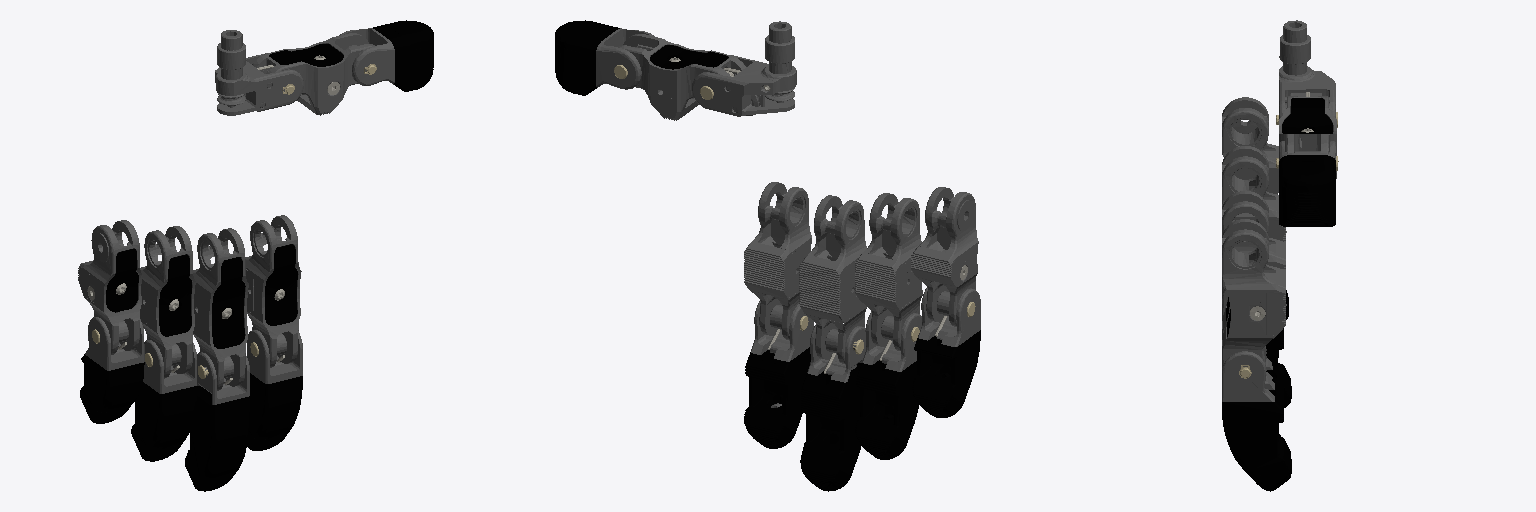
--- Render facts (derived) ---
Views: 3 orthographic renders of the robot side by side, from view 1: azimuth 30°, elevation 25°; view 2: azimuth 150°, elevation 25°; view 3: azimuth 270°, elevation 25°.
Robot: ur5e_robot — 23 links, 22 joints (17 revolute, 5 fixed); root link base_link; default pose: all joints at 0.
Visible links, largest first — view 1: mf_proximal, rf_proximal, if_proximal, mf_distal, lf_proximal, rf_distal, if_distal, lf_distal, th_inter, th_proximal, th_distal; view 2: mf_proximal, mf_distal, rf_proximal, if_proximal, if_distal, rf_distal, lf_proximal, lf_distal, th_proximal, th_inter, th_distal; view 3: if_distal, if_proximal, th_distal, th_proximal, th_inter, lf_proximal, rf_proximal, mf_proximal, rf_distal.
Link boxes in pixels (left/top/right/bottom): mf_proximal: left=193, top=228, right=248, bottom=390; rf_proximal: left=140, top=226, right=195, bottom=378; if_proximal: left=245, top=215, right=301, bottom=367; mf_distal: left=185, top=352, right=249, bottom=491; lf_proximal: left=78, top=220, right=142, bottom=354; rf_distal: left=131, top=340, right=196, bottom=461; if_distal: left=247, top=330, right=302, bottom=450; lf_distal: left=80, top=317, right=144, bottom=423; th_inter: left=252, top=33, right=376, bottom=115; th_proximal: left=215, top=30, right=303, bottom=115; th_distal: left=339, top=20, right=433, bottom=91; mf_proximal: left=799, top=195, right=866, bottom=364; mf_distal: left=800, top=325, right=865, bottom=491; rf_proximal: left=855, top=193, right=922, bottom=350; if_proximal: left=744, top=182, right=811, bottom=340; if_distal: left=744, top=301, right=813, bottom=448; rf_distal: left=855, top=311, right=921, bottom=459; lf_proximal: left=911, top=187, right=978, bottom=336; lf_distal: left=912, top=288, right=980, bottom=417; th_proximal: left=692, top=21, right=796, bottom=116; th_inter: left=614, top=34, right=745, bottom=120; th_distal: left=555, top=20, right=654, bottom=95; if_distal: left=1222, top=348, right=1291, bottom=489; if_proximal: left=1222, top=219, right=1286, bottom=367; th_distal: left=1279, top=141, right=1335, bottom=226; th_proximal: left=1276, top=20, right=1337, bottom=127; th_inter: left=1276, top=96, right=1338, bottom=178; lf_proximal: left=1222, top=97, right=1278, bottom=206; rf_proximal: left=1222, top=146, right=1286, bottom=293; mf_proximal: left=1222, top=191, right=1285, bottom=350; rf_distal: left=1222, top=288, right=1291, bottom=407.
Size in the robot's own frame: 0.1735 by 0.0442 by 0.2008 metres.
11 mesh visuals loaded from 19 distinct referenced files (11 Collada DAE); not drawn: 8 (reference not matched to a file when rendering).

URDF robot description (ur5e_robot):
<?xml version="1.0" encoding="utf-8"?>
<!-- =================================================================================== -->
<!-- |    This document was autogenerated by xacro from ur5e.xacro                     | -->
<!-- |    EDITING THIS FILE BY HAND IS NOT RECOMMENDED                                 | -->
<!-- =================================================================================== -->
<robot name="ur5e_robot">
  <!--
    Base UR robot series xacro macro.

    NOTE: this is NOT a URDF. It cannot directly be loaded by consumers
    expecting a flattened '.urdf' file. See the top-level '.xacro' for that
    (but note: that .xacro must still be processed by the xacro command).

    For use in '.launch' files: use one of the 'load_urX.launch' convenience
    launch files.

    This file models the base kinematic chain of a UR robot, which then gets
    parameterised by various configuration files to convert it into a UR3(e),
    UR5(e), UR10(e) or UR16e.

    NOTE: the default kinematic parameters (ie: link lengths, frame locations,
    offets, etc) do not correspond to any particular robot. They are defaults
    only. There WILL be non-zero offsets between the Forward Kinematics results
    in TF (ie: robot_state_publisher) and the values reported by the Teach
    Pendant.

    For accurate (and robot-specific) transforms, the 'kinematics_parameters_file'
    parameter MUST point to a .yaml file containing the appropriate values for
    the targetted robot.

    If using the UniversalRobots/Universal_Robots_ROS_Driver, follow the steps
    described in the readme of that repository to extract the kinematic
    calibration from the controller and generate the required .yaml file.

    Main author of the migration to yaml configs: Ludovic Delval.

    Contributors to previous versions (in no particular order):

     - Felix Messmer
     - Kelsey Hawkins
     - Wim Meeussen
     - Shaun Edwards
     - Nadia Hammoudeh Garcia
     - Dave Hershberger
     - G. vd. Hoorn
     - Philip Long
     - Dave Coleman
     - Miguel Prada
     - Mathias Luedtke
     - Marcel Schnirring
     - Felix von Drigalski
     - Felix Exner
     - Jimmy Da Silva
     - Ajit Krisshna N L
     - Muhammad Asif Rana
  -->
  <!--
    NOTE: the macro defined in this file is NOT part of the public API of this
          package. Users CANNOT rely on this file being available, or stored in
          this location. Nor can they rely on the existence of the macro.
  -->
  <transmission name="shoulder_pan_trans">
    <type>transmission_interface/SimpleTransmission</type>
    <joint name="shoulder_pan_joint">
      <hardwareInterface>hardware_interface/PositionJointInterface</hardwareInterface>
    </joint>
    <actuator name="shoulder_pan_motor">
      <mechanicalReduction>1</mechanicalReduction>
    </actuator>
  </transmission>
  <transmission name="shoulder_lift_trans">
    <type>transmission_interface/SimpleTransmission</type>
    <joint name="shoulder_lift_joint">
      <hardwareInterface>hardware_interface/PositionJointInterface</hardwareInterface>
    </joint>
    <actuator name="shoulder_lift_motor">
      <mechanicalReduction>1</mechanicalReduction>
    </actuator>
  </transmission>
  <transmission name="elbow_trans">
    <type>transmission_interface/SimpleTransmission</type>
    <joint name="elbow_joint">
      <hardwareInterface>hardware_interface/PositionJointInterface</hardwareInterface>
    </joint>
    <actuator name="elbow_motor">
      <mechanicalReduction>1</mechanicalReduction>
    </actuator>
  </transmission>
  <transmission name="wrist_1_trans">
    <type>transmission_interface/SimpleTransmission</type>
    <joint name="wrist_1_joint">
      <hardwareInterface>hardware_interface/PositionJointInterface</hardwareInterface>
    </joint>
    <actuator name="wrist_1_motor">
      <mechanicalReduction>1</mechanicalReduction>
    </actuator>
  </transmission>
  <transmission name="wrist_2_trans">
    <type>transmission_interface/SimpleTransmission</type>
    <joint name="wrist_2_joint">
      <hardwareInterface>hardware_interface/PositionJointInterface</hardwareInterface>
    </joint>
    <actuator name="wrist_2_motor">
      <mechanicalReduction>1</mechanicalReduction>
    </actuator>
  </transmission>
  <transmission name="wrist_3_trans">
    <type>transmission_interface/SimpleTransmission</type>
    <joint name="wrist_3_joint">
      <hardwareInterface>hardware_interface/PositionJointInterface</hardwareInterface>
    </joint>
    <actuator name="wrist_3_motor">
      <mechanicalReduction>1</mechanicalReduction>
    </actuator>
  </transmission>
  <!-- links: main serial chain -->
  <link name="base_link"/>
  <link name="base_link_inertia">
    <visual>
      <!--origin rpy="0 0 3.14159265359" xyz="0 0 0"/-->
      <origin rpy="1.57079632679 0 0" xyz="0 0 0"/>
      <geometry>
        <mesh filename="./meshes/ur5e/visual/base.dae"/>
      </geometry>
      <material name="LightGrey">
        <color rgba="0.7 0.7 0.7 1.0"/>
      </material>
    </visual>
    <collision>
      <origin rpy="0 0 3.14159265359" xyz="0 0 0"/>
      <geometry>
        <mesh filename="./meshes/ur5e/collision/base.stl"/>
      </geometry>
    </collision>
    <inertial>
      <mass value="4.0"/>
      <origin rpy="0 0 0" xyz="0 0 0"/>
      <inertia ixx="0.00443333156" ixy="0.0" ixz="0.0" iyy="0.00443333156" iyz="0.0" izz="0.0072"/>
    </inertial>
  </link>
  <link name="shoulder_link">
    <visual>
      <origin rpy="1.57079632679 0 3.14159265359" xyz="0 0 0"/>
      <geometry>
        <mesh filename="./meshes/ur5e/visual/shoulder.dae"/>
      </geometry>
      <material name="LightGrey">
        <color rgba="0.7 0.7 0.7 1.0"/>
      </material>
    </visual>
    <collision>
      <origin rpy="0 0 3.14159265359" xyz="0 0 0"/>
      <geometry>
        <mesh filename="./meshes/ur5e/collision/shoulder.stl"/>
      </geometry>
    </collision>
    <inertial>
      <mass value="3.7"/>
      <origin rpy="0 0 0" xyz="0 0 0"/>
      <inertia ixx="0.010267495893" ixy="0.0" ixz="0.0" iyy="0.010267495893" iyz="0.0" izz="0.00666"/>
    </inertial>
  </link>
  <link name="upper_arm_link">
    <visual>
      <origin rpy="3.14159265359 0 -1.57079632679" xyz="0 0 0.138"/>
      <geometry>
        <mesh filename="./meshes/ur5e/visual/upperarm.dae"/>
      </geometry>
      <material name="LightGrey">
        <color rgba="0.7 0.7 0.7 1.0"/>
      </material>
    </visual>
    <collision>
      <origin rpy="1.57079632679 0 -1.57079632679" xyz="0 0 0.138"/>
      <geometry>
        <mesh filename="./meshes/ur5e/collision/upperarm.stl"/>
      </geometry>
    </collision>
    <inertial>
      <mass value="8.393"/>
      <origin rpy="0 1.57079632679 0" xyz="-0.2125 0.0 0.138"/>
      <inertia ixx="0.133885781862" ixy="0.0" ixz="0.0" iyy="0.133885781862" iyz="0.0" izz="0.0151074"/>
    </inertial>
  </link>
  <link name="forearm_link">
    <visual>
      <origin rpy="3.14159265359 0 -1.57079632679" xyz="0 0 0.007"/>
      <geometry>
        <mesh filename="./meshes/ur5e/visual/forearm.dae"/>
      </geometry>
      <material name="LightGrey">
        <color rgba="0.7 0.7 0.7 1.0"/>
      </material>
    </visual>
    <collision>
      <origin rpy="1.57079632679 0 -1.57079632679" xyz="0 0 0.007"/>
      <geometry>
        <mesh filename="./meshes/ur5e/collision/forearm.stl"/>
      </geometry>
    </collision>
    <inertial>
      <mass value="2.275"/>
      <origin rpy="0 1.57079632679 0" xyz="-0.1961 0.0 0.007"/>
      <inertia ixx="0.0312093550996" ixy="0.0" ixz="0.0" iyy="0.0312093550996" iyz="0.0" izz="0.004095"/>
    </inertial>
  </link>
  <link name="wrist_1_link">
    <visual>
      <!-- TODO: Move this to a parameter -->
      <origin rpy="3.14159265359 0 0" xyz="0 0 -0.127"/>
      <geometry>
        <mesh filename="./meshes/ur5e/visual/wrist1.dae"/>
      </geometry>
      <material name="LightGrey">
        <color rgba="0.7 0.7 0.7 1.0"/>
      </material>
    </visual>
    <collision>
      <origin rpy="1.57079632679 0 0" xyz="0 0 -0.127"/>
      <geometry>
        <mesh filename="./meshes/ur5e/collision/wrist1.stl"/>
      </geometry>
    </collision>
    <inertial>
      <mass value="1.219"/>
      <origin rpy="0 0 0" xyz="0 0 0"/>
      <inertia ixx="0.00255989897604" ixy="0.0" ixz="0.0" iyy="0.00255989897604" iyz="0.0" izz="0.0021942"/>
    </inertial>
  </link>
  <link name="wrist_2_link">
    <visual>
      <origin rpy="1.57079632679 0 0" xyz="0 0 -0.0997"/>
      <geometry>
        <mesh filename="./meshes/ur5e/visual/wrist2.dae"/>
      </geometry>
      <material name="LightGrey">
        <color rgba="0.7 0.7 0.7 1.0"/>
      </material>
    </visual>
    <collision>
      <origin rpy="0 0 0" xyz="0 0 -0.0997"/>
      <geometry>
        <mesh filename="./meshes/ur5e/collision/wrist2.stl"/>
      </geometry>
    </collision>
    <inertial>
      <mass value="1.219"/>
      <origin rpy="0 0 0" xyz="0 0 0"/>
      <inertia ixx="0.00255989897604" ixy="0.0" ixz="0.0" iyy="0.00255989897604" iyz="0.0" izz="0.0021942"/>
    </inertial>
  </link>
  <link name="wrist_3_link">
    <visual>
      <origin rpy="3.14159265359 0 0" xyz="0 0 -0.0989"/>
      <geometry>
        <mesh filename="./meshes/ur5e/visual/wrist3.dae"/>
      </geometry>
      <material name="LightGrey">
        <color rgba="0.7 0.7 0.7 1.0"/>
      </material>
    </visual>
    <collision>
      <origin rpy="1.57079632679 0 0" xyz="0 0 -0.0989"/>
      <geometry>
        <mesh filename="./meshes/ur5e/collision/wrist3.stl"/>
      </geometry>
    </collision>
    <inertial>
      <mass value="0.1879"/>
      <origin rpy="0 0 0" xyz="0.0 0.0 -0.0229"/>
      <inertia ixx="9.89041005217e-05" ixy="0.0" ixz="0.0" iyy="9.89041005217e-05" iyz="0.0" izz="0.0001321171875"/>
    </inertial>
  </link>
  <!-- joints: main serial chain -->
  <joint name="base_link-base_link_inertia" type="fixed">
    <parent link="base_link"/>
    <child link="base_link_inertia"/>
    <!-- 'base_link' is REP-103 aligned (so X+ forward), while the internal
           frames of the robot/controller have X+ pointing backwards.
           Use the joint between 'base_link' and 'base_link_inertia' (a dummy
           link/frame) to introduce the necessary rotation over Z (of pi rad).
      -->
    <origin rpy="0 0 3.14159265359" xyz="0 0 0"/>
  </joint>
  <joint name="shoulder_pan_joint" type="revolute">
    <parent link="base_link_inertia"/>
    <child link="shoulder_link"/>
    <origin rpy="0 0 0" xyz="0 0 0.1625"/>
    <axis xyz="0 0 1"/>
    <limit effort="150.0" lower="-6.28318530718" upper="6.28318530718" velocity="3.14159265359"/>
    <dynamics damping="0" friction="0"/>
  </joint>
  <joint name="shoulder_lift_joint" type="revolute">
    <parent link="shoulder_link"/>
    <child link="upper_arm_link"/>
    <origin rpy="1.570796327 0 0" xyz="0 0 0"/>
    <axis xyz="0 0 1"/>
    <limit effort="150.0" lower="-6.28318530718" upper="6.28318530718" velocity="3.14159265359"/>
    <dynamics damping="0" friction="0"/>
  </joint>
  <joint name="elbow_joint" type="revolute">
    <parent link="upper_arm_link"/>
    <child link="forearm_link"/>
    <origin rpy="0 0 0" xyz="-0.425 0 0"/>
    <axis xyz="0 0 1"/>
    <limit effort="150.0" lower="-3.14159265359" upper="3.14159265359" velocity="3.14159265359"/>
    <dynamics damping="0" friction="0"/>
  </joint>
  <joint name="wrist_1_joint" type="revolute">
    <parent link="forearm_link"/>
    <child link="wrist_1_link"/>
    <origin rpy="0 0 0" xyz="-0.3922 0 0.1333"/>
    <axis xyz="0 0 1"/>
    <limit effort="28.0" lower="-6.28318530718" upper="6.28318530718" velocity="3.14159265359"/>
    <dynamics damping="0" friction="0"/>
  </joint>
  <joint name="wrist_2_joint" type="revolute">
    <parent link="wrist_1_link"/>
    <child link="wrist_2_link"/>
    <origin rpy="1.570796327 0 0" xyz="0 -0.0997 -2.0448811823e-11"/>
    <axis xyz="0 0 1"/>
    <limit effort="28.0" lower="-6.28318530718" upper="6.28318530718" velocity="3.14159265359"/>
    <dynamics damping="0" friction="0"/>
  </joint>
  <joint name="wrist_3_joint" type="revolute">
    <parent link="wrist_2_link"/>
    <child link="wrist_3_link"/>
    <origin rpy="1.57079632659 3.14159265359 3.14159265359" xyz="0 0.0996 -2.04283014801e-11"/>
    <axis xyz="0 0 1"/>
    <limit effort="28.0" lower="-6.28318530718" upper="6.28318530718" velocity="3.14159265359"/>
    <dynamics damping="0" friction="0"/>
  </joint>
  <!-- ROS-Industrial 'base' frame: base_link to UR 'Base' Coordinates transform -->
  <link name="base"/>
  <joint name="base_link-base_fixed_joint" type="fixed">
    <!-- Note the rotation over Z of pi radians: as base_link is REP-103
           aligned (ie: has X+ forward, Y+ left and Z+ up), this is needed
           to correctly align 'base' with the 'Base' coordinate system of
           the UR controller.
      -->
    <origin rpy="0 0 3.14159265359" xyz="0 0 0"/>
    <parent link="base_link"/>
    <child link="base"/>
  </joint>
  <!-- ROS-Industrial 'flange' frame: attachment point for EEF models -->
  <link name="flange"/>
  <joint name="wrist_3-flange" type="fixed">
    <parent link="wrist_3_link"/>
    <child link="flange"/>
    <origin rpy="0 -1.57079632679 -1.57079632679" xyz="0 0 0"/>
  </joint>
  <!-- ROS-Industrial 'tool0' frame: all-zeros tool frame -->
  <link name="tool0"/>
  <joint name="flange-tool0" type="fixed">
    <!-- default toolframe: X+ left, Y+ up, Z+ front -->
    <origin rpy="1.57079632679 0 1.57079632679" xyz="0 0 0"/>
    <parent link="flange"/>
    <child link="tool0"/>
  </joint>

    # SIH Hand

    # Palm
    <link name="palm">
        <visual>
            <geometry>
                <mesh filename="./meshes/schunk_sih_right/visual/palm.dae" scale="0.001 0.001 0.001"/>
            </geometry>
            <material name="silver"/>
            <origin rpy="1.57079632679 0 0" xyz="0 0 0"/>
        </visual>
        <collision>
            <geometry>
                <mesh filename="./meshes/schunk_sih_right/collision/palm.stl" scale="0.001 0.001 0.001"/>
            </geometry>
        </collision>
        <inertial>
            <mass value="0.05"/>
            <origin rpy="0 0 0" xyz="0.0 0.0 0.0"/>
            <inertia ixx="0.0001" ixy="0.0001" ixz="0.0001" iyy="0.0001" iyz="0.0001" izz="0.0001"/>
        </inertial>
    </link>

    # Index finger
    <link name="if_proximal">
        <visual>
            <geometry>
                <mesh filename="./meshes/schunk_sih_right/visual/if_proximal.dae" scale="0.001 0.001 0.001"/>
            </geometry>
            <material name="silver"/>
            <origin rpy="1.57079632679 0 0" xyz="-0.0435 0 -0.141"/>
        </visual>
        <collision>
            <geometry>
                <mesh filename="./meshes/schunk_sih_right/collision/if_proximal.stl" scale="0.001 0.001 0.001"/>
            </geometry>
            <origin rpy="0 0 0" xyz="-0.0435 0 -0.141"/>
        </collision>
        <inertial>
            <mass value="0.03"/>
            <origin rpy="0 0 0" xyz="0.0 0.0 0.0"/>
            <inertia ixx="0.0001" ixy="0.0001" ixz="0.0001" iyy="0.0001" iyz="0.0001" izz="0.0001"/>
        </inertial>
    </link>
    <joint name="palm_to_if_proximal" type="revolute">
        <parent link="palm"/>
        <child link="if_proximal"/>
        <origin xyz="0.0435 0 0.141"/>
        <axis xyz="1 0 0"/>
        <limit effort="330.0" lower="-1.571" upper="0.0"/>
        <dynamics damping="0.1" friction="0"/>
    </joint>
    <link name="if_distal">
        <visual>
            <geometry>
                <mesh filename="./meshes/schunk_sih_right/visual/if_distal.dae" scale="0.001 0.001 0.001"/>
            </geometry>
            <material name="silver"/>
            <origin rpy="1.57079632679 0 0" xyz="-0.0435 0 -0.189"/>
        </visual>
        <collision>
            <geometry>
                <mesh filename="./meshes/schunk_sih_right/collision/if_distal.stl" scale="0.001 0.001 0.001"/>
            </geometry>
            <origin rpy="0 0 0" xyz="-0.0435 0 -0.189"/>
        </collision>
        <inertial>
            <mass value="0.03"/>
            <origin rpy="0 0 0" xyz="0.0 0.0 0.0"/>
            <inertia ixx="0.0001" ixy="0.0001" ixz="0.0001" iyy="0.0001" iyz="0.0001" izz="0.0001"/>
        </inertial>
    </link>
    <joint name="if_proximal_to_if_distal" type="revolute">
        <parent link="if_proximal"/>
        <child link="if_distal"/>
        <origin xyz="0 0 0.048"/>
        <axis xyz="1 0 0"/>
        <limit effort="330.0" lower="-1.571" upper="0.0"/>
        <dynamics damping="0.1" friction="0"/>
    </joint>

    # Middle finger
    <link name="mf_proximal">
        <visual>
            <geometry>
                <mesh filename="./meshes/schunk_sih_right/visual/mf_proximal.dae" scale="0.001 0.001 0.001"/>
            </geometry>
            <material name="silver"/>
            <origin rpy="1.57079632679 0 0" xyz="-0.0187 0 -0.141"/>
        </visual>
        <collision>
            <geometry>
                <mesh filename="./meshes/schunk_sih_right/collision/mf_proximal.stl" scale="0.001 0.001 0.001"/>
            </geometry>
            <origin rpy="0 0 0" xyz="-0.0187 0 -0.141"/>
        </collision>
        <inertial>
            <mass value="0.03"/>
            <origin rpy="0 0 0" xyz="0.0 0.0 0.0"/>
            <inertia ixx="0.0001" ixy="0.0001" ixz="0.0001" iyy="0.0001" iyz="0.0001" izz="0.0001"/>
        </inertial>
    </link>
    <joint name="palm_to_mf_proximal" type="revolute">
        <parent link="palm"/>
        <child link="mf_proximal"/>
        <origin xyz="0.0187 0 0.141"/>
        <axis xyz="1 0 0"/>
        <limit effort="330.0" lower="-1.571" upper="0.0"/>
        <dynamics damping="0.1" friction="0"/>
    </joint>
    <link name="mf_distal">
        <visual>
            <geometry>
                <mesh filename="./meshes/schunk_sih_right/visual/mf_distal.dae" scale="0.001 0.001 0.001"/>
            </geometry>
            <material name="silver"/>
            <origin rpy="1.57079632679 0 0" xyz="-0.0187 0 -0.1935"/>
        </visual>
        <collision>
            <geometry>
                <mesh filename="./meshes/schunk_sih_right/collision/mf_distal.stl" scale="0.001 0.001 0.001"/>
            </geometry>
            <origin rpy="0 0 0" xyz="-0.0187 0 -0.1935"/>
        </collision>
        <inertial>
            <mass value="0.03"/>
            <origin rpy="0 0 0" xyz="0.0 0.0 0.0"/>
            <inertia ixx="0.0001" ixy="0.0001" ixz="0.0001" iyy="0.0001" iyz="0.0001" izz="0.0001"/>
        </inertial>
    </link>
    <joint name="mf_proximal_to_mf_distal" type="revolute">
        <parent link="mf_proximal"/>
        <child link="mf_distal"/>
        <origin xyz="0 0 0.0525"/>
        <axis xyz="1 0 0"/>
        <limit effort="330.0" lower="-1.571" upper="0.0"/>
        <dynamics damping="0.1" friction="0"/>
    </joint>

    # Ring finger
    <link name="rf_proximal">
        <visual>
            <geometry>
                <mesh filename="./meshes/schunk_sih_right/visual/rf_proximal.dae" scale="0.001 0.001 0.001"/>
            </geometry>
            <material name="silver"/>
            <origin rpy="1.57079632679 0 0" xyz="0.0069 0 -0.134"/>
        </visual>
        <collision>
            <geometry>
                <mesh filename="./meshes/schunk_sih_right/collision/rf_proximal.stl" scale="0.001 0.001 0.001"/>
            </geometry>
            <origin rpy="0 0 0" xyz="0.0069 0 -0.134"/>
        </collision>
        <inertial>
            <mass value="0.03"/>
            <origin rpy="0 0 0" xyz="0.0 0.0 0.0"/>
            <inertia ixx="0.0001" ixy="0.0001" ixz="0.0001" iyy="0.0001" iyz="0.0001" izz="0.0001"/>
        </inertial>
    </link>
    <joint name="palm_to_rf_proximal" type="revolute">
        <parent link="palm"/>
        <child link="rf_proximal"/>
        <origin xyz="-0.0069 0 0.134"/>
        <axis xyz="1 0 0"/>
        <limit effort="330.0" lower="-1.571" upper="0.0"/>
        <dynamics damping="0.1" friction="0"/>
    </joint>
    <link name="rf_distal">
        <visual>
            <geometry>
                <mesh filename="./meshes/schunk_sih_right/visual/rf_distal.dae" scale="0.001 0.001 0.001"/>
            </geometry>
            <material name="silver"/>
            <origin rpy="1.57079632679 0 0" xyz="0.0069 0 -0.182"/>
        </visual>
        <collision>
            <geometry>
                <mesh filename="./meshes/schunk_sih_right/collision/rf_distal.stl" scale="0.001 0.001 0.001"/>
            </geometry>
            <origin rpy="0 0 0" xyz="0.0069 0 -0.182"/>
        </collision>
        <inertial>
            <mass value="0.03"/>
            <origin rpy="0 0 0" xyz="0.0 0.0 0.0"/>
            <inertia ixx="0.0001" ixy="0.0001" ixz="0.0001" iyy="0.0001" iyz="0.0001" izz="0.0001"/>
        </inertial>
    </link>
    <joint name="rf_proximal_to_rf_distal" type="revolute">
        <parent link="rf_proximal"/>
        <child link="rf_distal"/>
        <origin xyz="0 0 0.048"/>
        <axis xyz="1 0 0"/>
        <limit effort="330.0" lower="-1.571" upper="0.0"/>
        <dynamics damping="0.1" friction="0"/>
    </joint>

    # Little finger
    <link name="lf_proximal">
        <visual>
            <geometry>
                <mesh filename="./meshes/schunk_sih_right/visual/lf_proximal.dae" scale="0.001 0.001 0.001"/>
            </geometry>
            <material name="silver"/>
            <origin rpy="1.57079632679 0 0" xyz="0.032 0 -0.1254"/>
        </visual>
        <collision>
            <geometry>
                <mesh filename="./meshes/schunk_sih_right/collision/lf_proximal.stl" scale="0.001 0.001 0.001"/>
            </geometry>
            <origin rpy="0 0 0" xyz="0.032 0 -0.1254"/>
        </collision>
        <inertial>
            <mass value="0.03"/>
            <origin rpy="0 0 0" xyz="0.0 0.0 0.0"/>
            <inertia ixx="0.0001" ixy="0.0001" ixz="0.0001" iyy="0.0001" iyz="0.0001" izz="0.0001"/>
        </inertial>
    </link>
    <joint name="palm_to_lf_proximal" type="revolute">
        <parent link="palm"/>
        <child link="lf_proximal"/>
        <origin xyz="-0.032 0 0.1254"/>
        <axis xyz="1 0 0"/>
        <limit effort="330.0" lower="-1.571" upper="0.0"/>
        <dynamics damping="0.1" friction="0"/>
    </joint>
    <link name="lf_distal">
        <visual>
            <geometry>
                <mesh filename="./meshes/schunk_sih_right/visual/lf_distal.dae" scale="0.001 0.001 0.001"/>
            </geometry>
            <material name="silver"/>
            <origin rpy="1.57079632679 0 0" xyz="0.032 0 -0.1655"/>
        </visual>
        <collision>
            <geometry>
                <mesh filename="./meshes/schunk_sih_right/collision/lf_distal.stl" scale="0.001 0.001 0.001"/>
            </geometry>
            <origin rpy="0 0 0" xyz="0.032 0 -0.1655"/>
        </collision>
        <inertial>
            <mass value="0.03"/>
            <origin rpy="0 0 0" xyz="0.0 0.0 0.0"/>
            <inertia ixx="0.0001" ixy="0.0001" ixz="0.0001" iyy="0.0001" iyz="0.0001" izz="0.0001"/>
        </inertial>
    </link>
    <joint name="lf_proximal_to_lf_distal" type="revolute">
        <parent link="lf_proximal"/>
        <child link="lf_distal"/>
        <origin xyz="0 0 0.0401"/>
        <axis xyz="1 0 0"/>
        <limit effort="330.0" lower="-1.571" upper="0.0"/>
        <dynamics damping="0.1" friction="0"/>
    </joint>

    # Thumb
    <link name="th_proximal">
        <visual>
            <geometry>
                <mesh filename="./meshes/schunk_sih_right/visual/th_proximal.dae" scale="0.001 0.001 0.001"/>
            </geometry>
            <material name="silver"/>
            <origin rpy="1.57079632679 0 0" xyz="0.034 -0.019 -0.08"/>
        </visual>
        <collision>
            <geometry>
                <mesh filename="./meshes/schunk_sih_right/collision/th_proximal.stl" scale="0.001 0.001 0.001"/>
            </geometry>
            <origin rpy="0 0 0" xyz="0.034 -0.019 -0.08"/>
        </collision>
        <inertial>
            <mass value="0.03"/>
            <origin rpy="0 0 0" xyz="0.0 0.0 0.0"/>
            <inertia ixx="0.0001" ixy="0.0001" ixz="0.0001" iyy="0.0001" iyz="0.0001" izz="0.0001"/>
        </inertial>
    </link>
    <joint name="palm_to_th_proximal" type="revolute">
        <parent link="palm"/>
        <child link="th_proximal"/>
        <origin xyz="-0.034 0.019 0.08"/>
        <axis xyz="0 0 1"/>
        <limit effort="330.0" lower="-1.571" upper="0.0"/>
        <dynamics damping="0.1" friction="0"/>
    </joint>
    <link name="th_inter">
        <visual>
            <geometry>
                <mesh filename="./meshes/schunk_sih_right/visual/th_inter.dae" scale="0.001 0.001 0.001"/>
            </geometry>
            <material name="silver"/>
            <origin rpy="1.57079632679 0 0" xyz="0.058 -0.024 -0.081"/>
        </visual>
        <collision>
            <geometry>
                <mesh filename="./meshes/schunk_sih_right/collision/th_inter_cvx.stl" scale="0.001 0.001 0.001"/>
            </geometry>
            <origin rpy="0 0 0" xyz="0.058 -0.024 -0.081"/>
        </collision>
        <inertial>
            <mass value="0.03"/>
            <origin rpy="0 0 0" xyz="0.0 0.0 0.0"/>
            <inertia ixx="0.0001" ixy="0.0001" ixz="0.0001" iyy="0.0001" iyz="0.0001" izz="0.0001"/>
        </inertial>
    </link>
    <joint name="th_proximal_to_th_inter" type="revolute">
        <parent link="th_proximal"/>
        <child link="th_inter"/>
        <origin xyz="-0.024 0.005 0.001"/>
        <axis xyz="0 1 0"/>
        <limit effort="330.0" lower="0.0" upper="1.571"/>
        <dynamics damping="0.1" friction="0"/>
    </joint>
    <link name="th_distal">
        <visual>
            <geometry>
                <mesh filename="./meshes/schunk_sih_right/visual/th_distal.dae" scale="0.001 0.001 0.001"/>
            </geometry>
            <material name="silver"/>
            <origin rpy="1.57079632679 0 0" xyz="0.0971 -0.024 -0.081"/>
        </visual>
        <collision>
            <geometry>
                <mesh filename="./meshes/schunk_sih_right/collision/th_distal.stl" scale="0.001 0.001 0.001"/>
            </geometry>
            <origin rpy="0 0 0" xyz="0.0971 -0.024 -0.081"/>
        </collision>
        <inertial>
            <mass value="0.03"/>
            <origin rpy="0 0 0" xyz="0.0 0.0 0.0"/>
            <inertia ixx="0.0001" ixy="0.0001" ixz="0.0001" iyy="0.0001" iyz="0.0001" izz="0.0001"/>
        </inertial>
    </link>
    <joint name="th_inter_to_th_distal" type="revolute">
        <parent link="th_inter"/>
        <child link="th_distal"/>
        <origin xyz="-0.0391 0 0"/>
        <axis xyz="0 1 0"/>
        <limit effort="330.0" lower="0.0" upper="1.571"/>
        <dynamics damping="0.1" friction="0"/>
    </joint>



  <joint name="flange-palm" type="fixed">
    <!-- default toolframe: X+ left, Y+ up, Z+ front -->
    <origin rpy="1.5707 0 1.57079632679" xyz="0 0 0"/>
    <parent link="flange"/>
    <child link="palm"/>
  </joint>


</robot>
